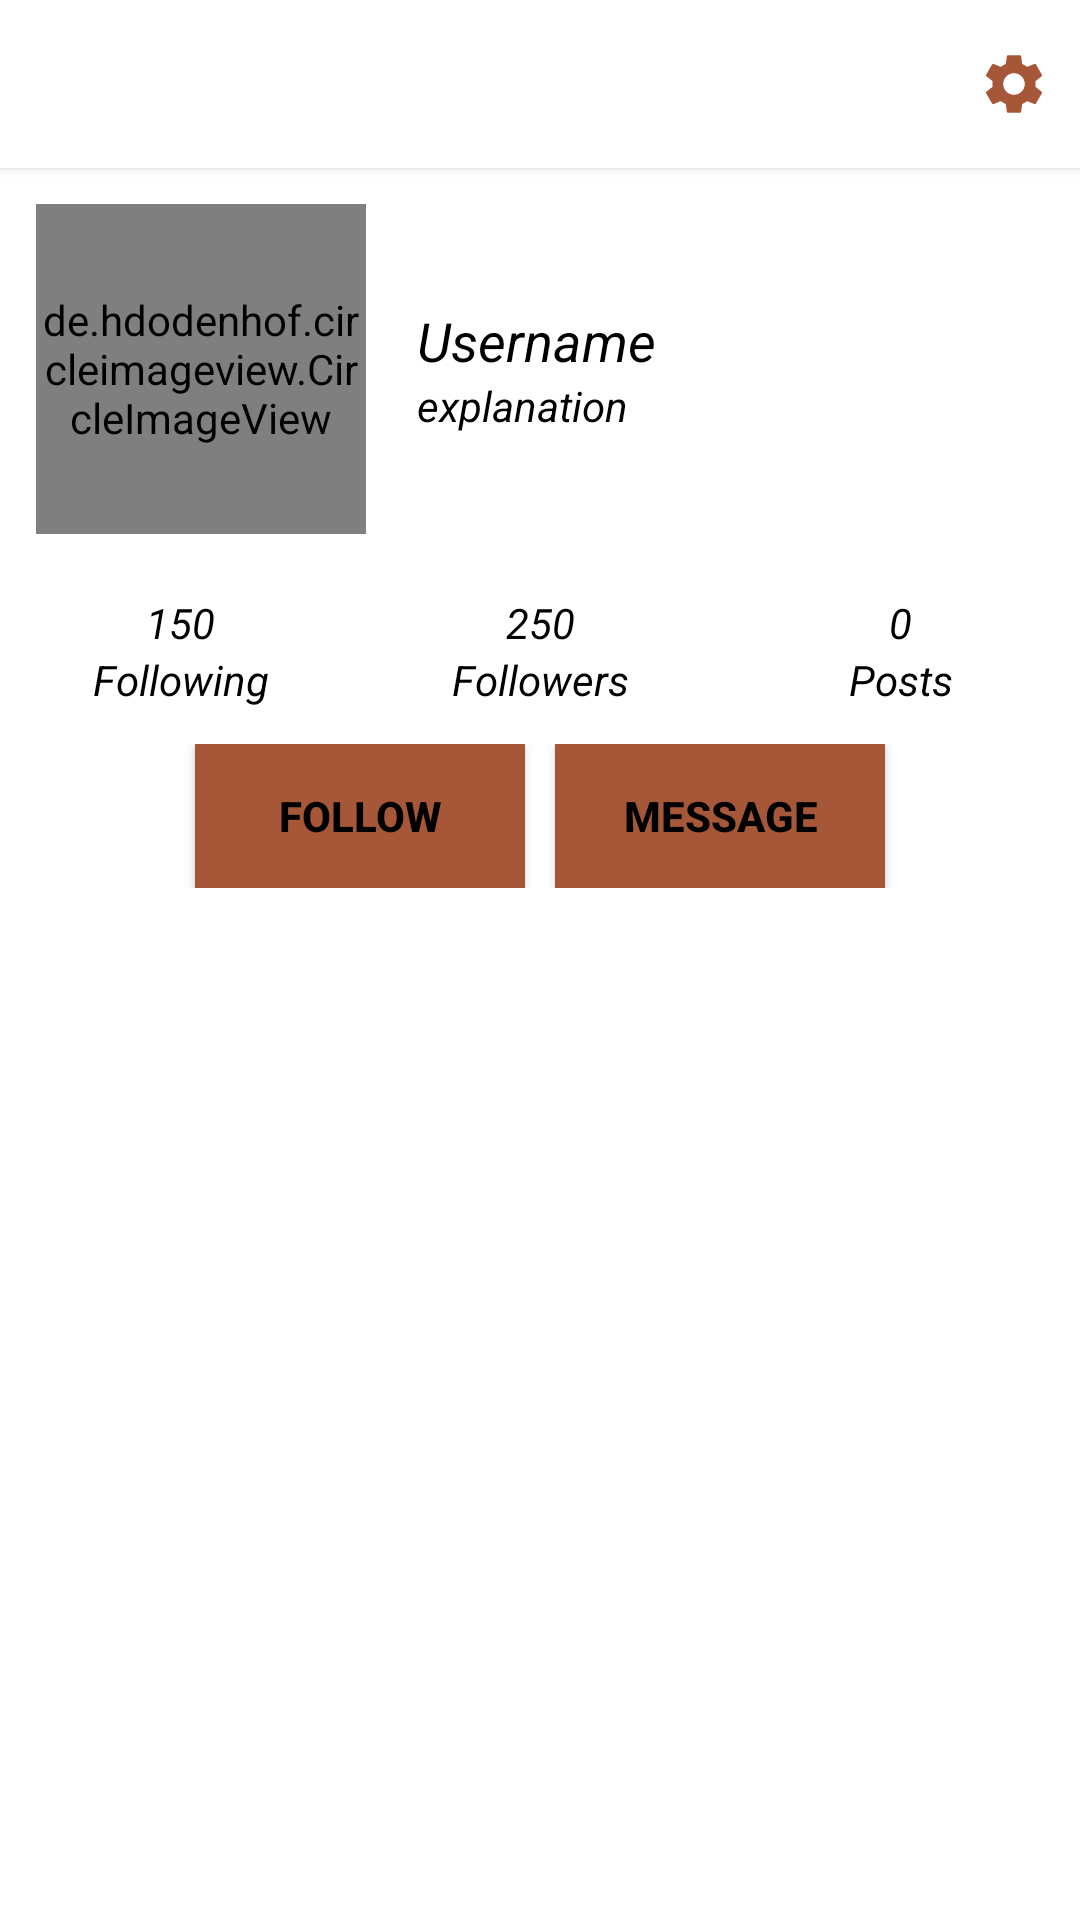

Icon click points for this 1080px x 1920px phone screenshot, format [x,y]:
settings: [1014,84]
